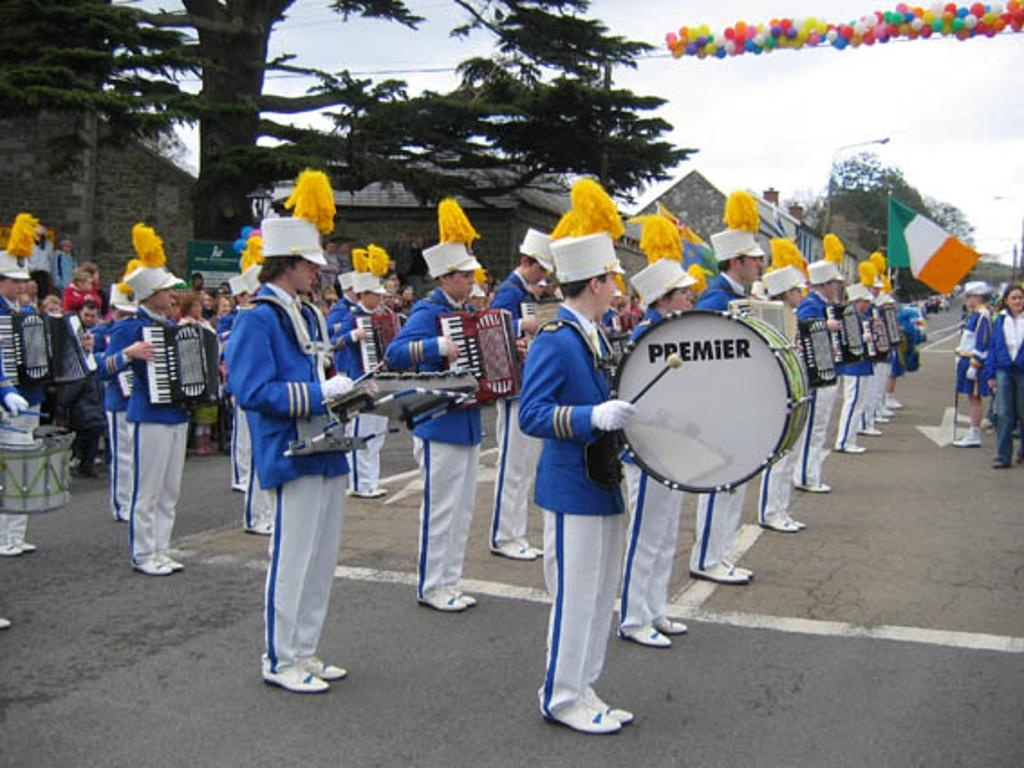human_face: (290, 255, 318, 291), (738, 252, 764, 284), (594, 272, 612, 316), (152, 285, 176, 315), (450, 270, 474, 296), (6, 274, 28, 300), (671, 286, 693, 312), (528, 256, 548, 282), (1006, 290, 1022, 310), (790, 284, 802, 308), (364, 290, 380, 308), (82, 306, 96, 326), (189, 298, 201, 316), (826, 280, 838, 296), (116, 306, 132, 318), (25, 280, 37, 296), (964, 292, 976, 306), (854, 298, 866, 312), (242, 292, 254, 306), (324, 294, 336, 308), (204, 293, 214, 309), (47, 303, 59, 315), (386, 274, 396, 288), (220, 301, 230, 315), (868, 285, 880, 295), (192, 274, 200, 288), (610, 296, 620, 306), (82, 279, 92, 289), (61, 243, 71, 253), (325, 242, 333, 250), (632, 296, 638, 306), (404, 286, 412, 292), (396, 232, 402, 240), (340, 243, 346, 251), (402, 290, 408, 296)
